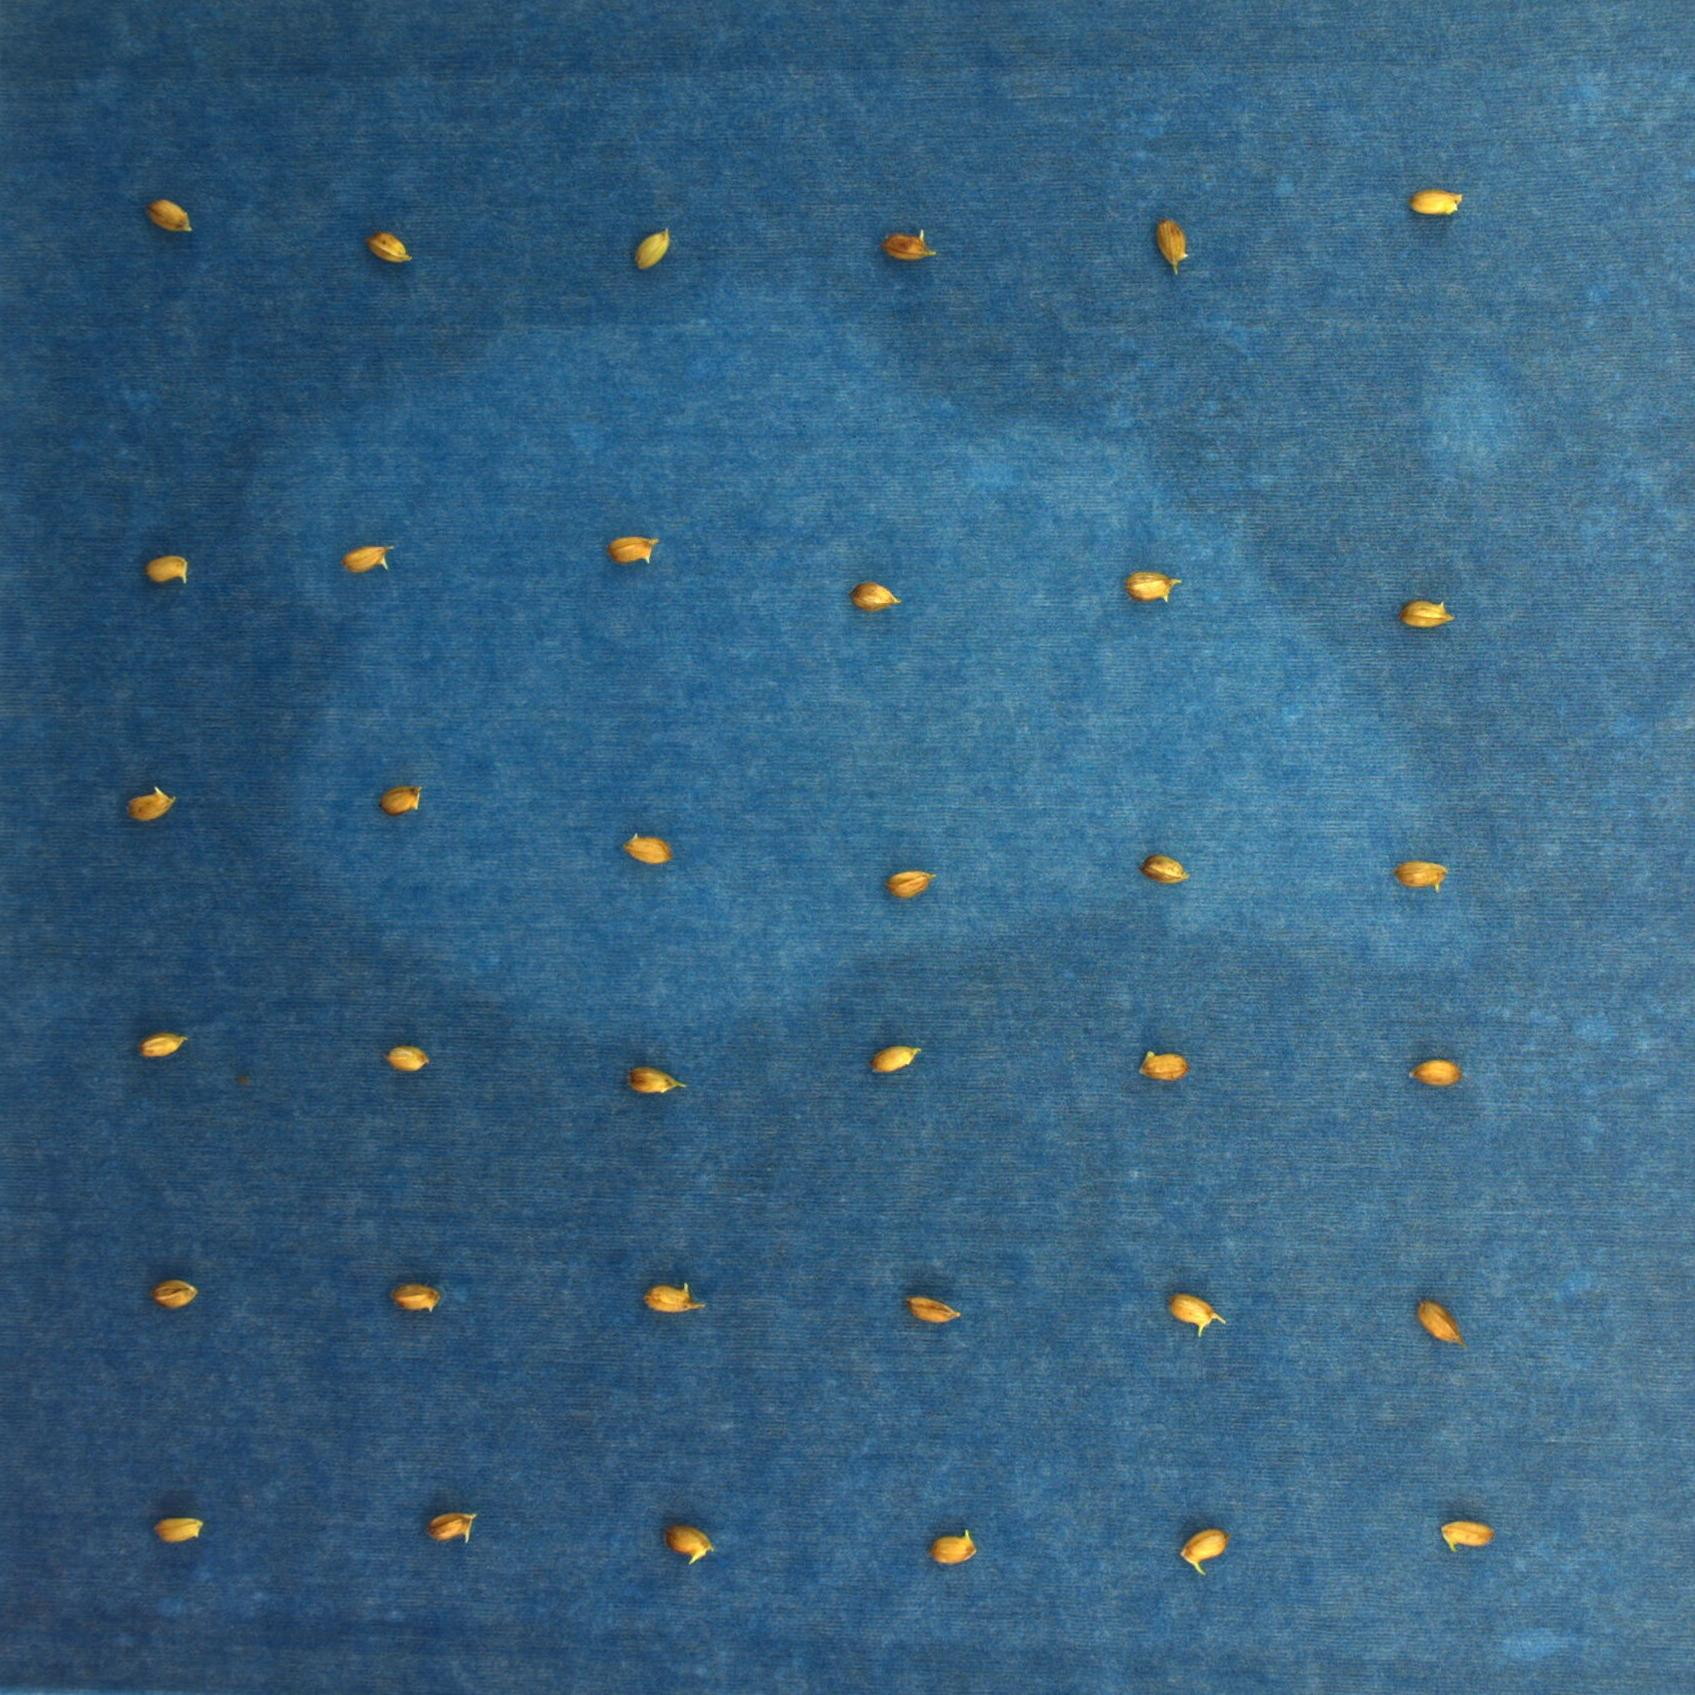not sprout: (1166, 1290, 1231, 1338), (1414, 1296, 1468, 1352), (636, 1277, 703, 1318), (663, 1521, 719, 1565), (875, 230, 941, 265), (1153, 213, 1191, 275), (863, 1042, 922, 1080), (618, 1063, 691, 1094), (1436, 1516, 1496, 1554), (847, 577, 905, 616), (143, 194, 194, 237), (900, 1295, 965, 1329), (149, 1276, 203, 1316), (123, 785, 175, 826), (925, 1529, 979, 1568), (1402, 594, 1461, 630), (1405, 186, 1465, 220), (619, 832, 674, 869), (1388, 860, 1450, 893), (338, 542, 397, 576), (151, 1509, 206, 1544), (130, 1029, 191, 1062), (1178, 1529, 1226, 1569), (1138, 854, 1192, 889), (1136, 1049, 1191, 1085), (424, 1509, 483, 1541), (632, 225, 672, 272), (602, 534, 663, 565), (1122, 570, 1180, 602), (140, 553, 194, 587), (365, 230, 416, 265), (390, 1281, 442, 1312), (376, 785, 425, 818), (1402, 1060, 1462, 1087), (882, 869, 931, 900), (382, 1045, 432, 1074)
